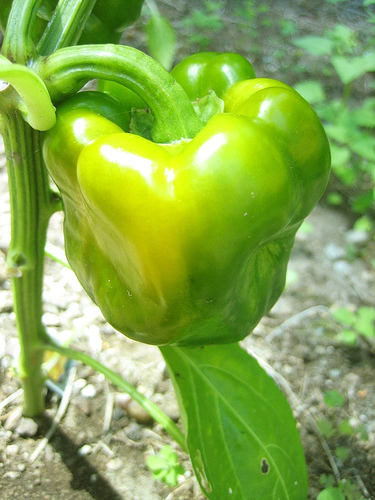capsicum: (41, 45, 332, 348)
